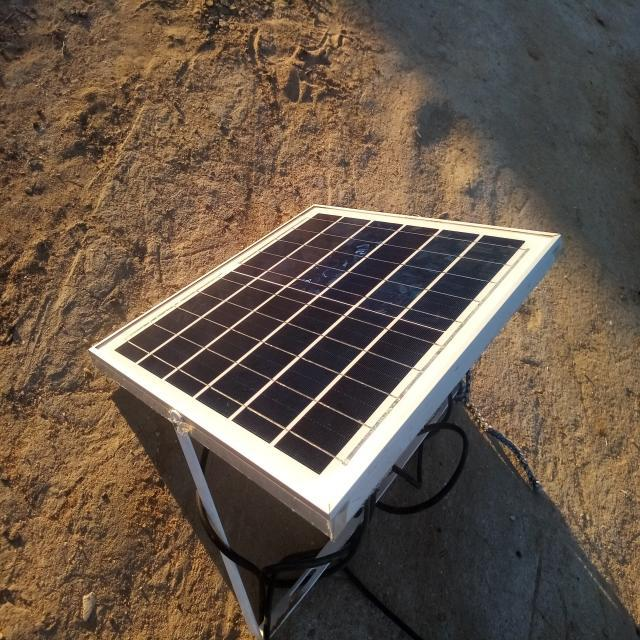no faulty: (94, 203, 557, 517)
